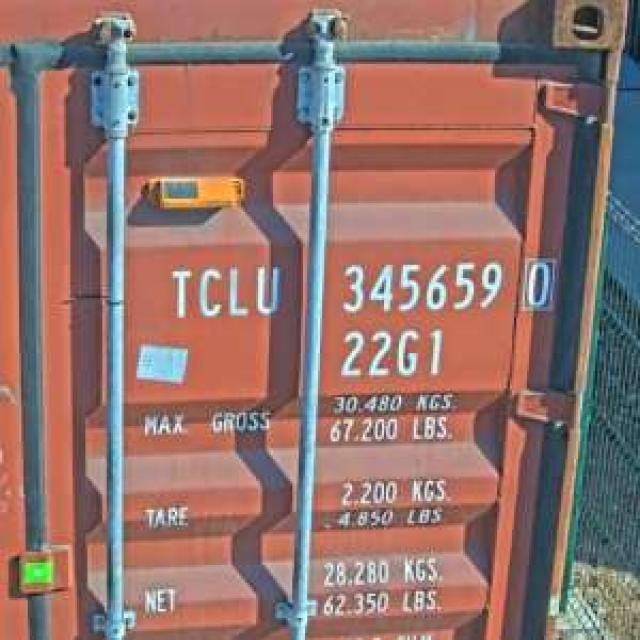dv: (516, 252, 557, 311)
owner: (164, 258, 286, 327)
serial: (332, 252, 506, 318)
size: (333, 322, 448, 382)
